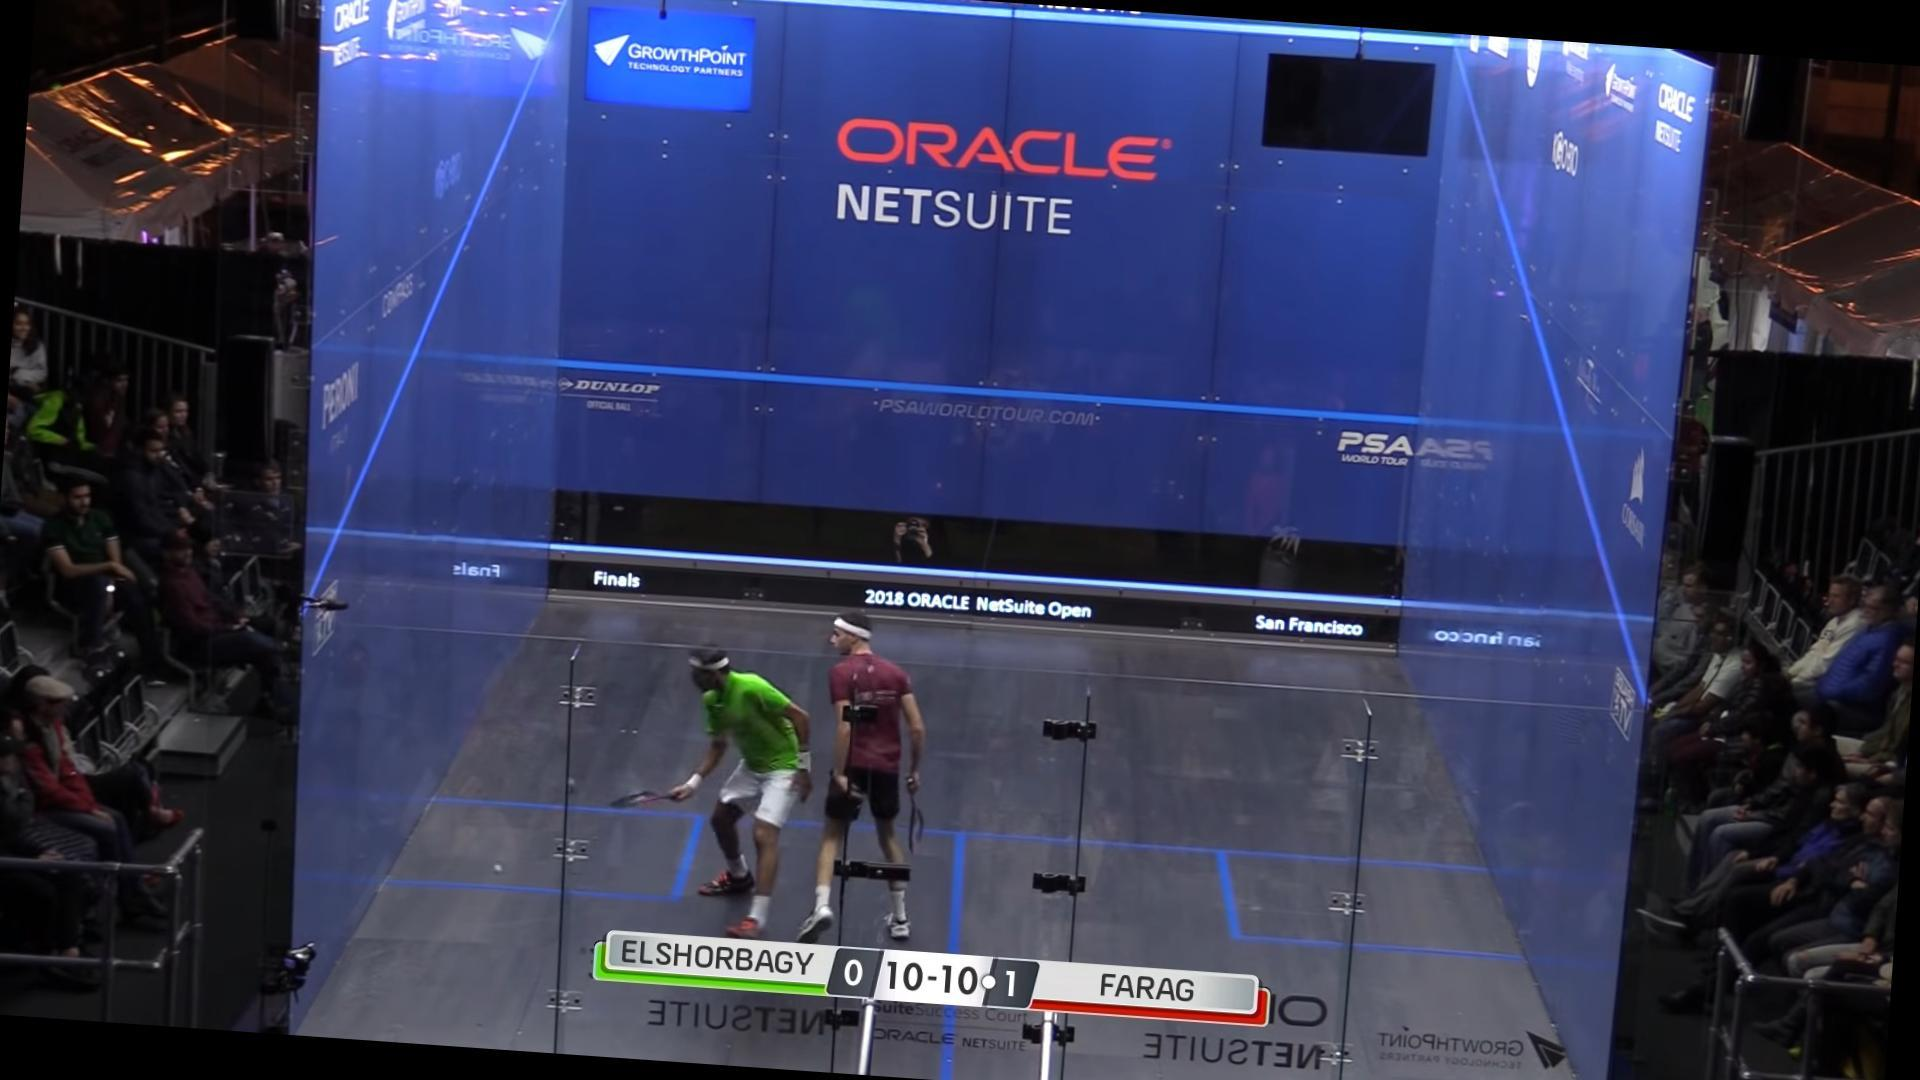Squash-Ball: (487, 858, 512, 880)
